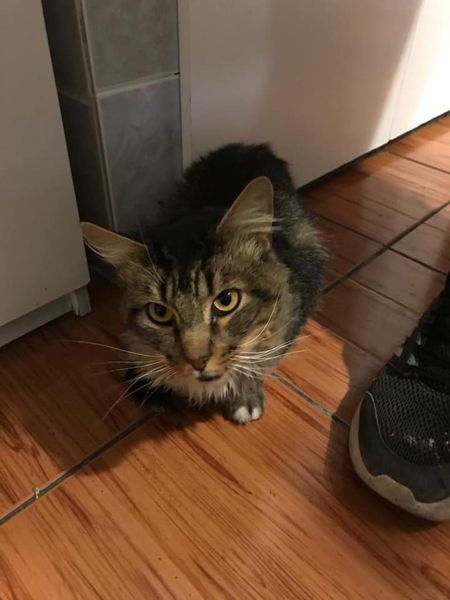cat: (77, 130, 336, 442)
